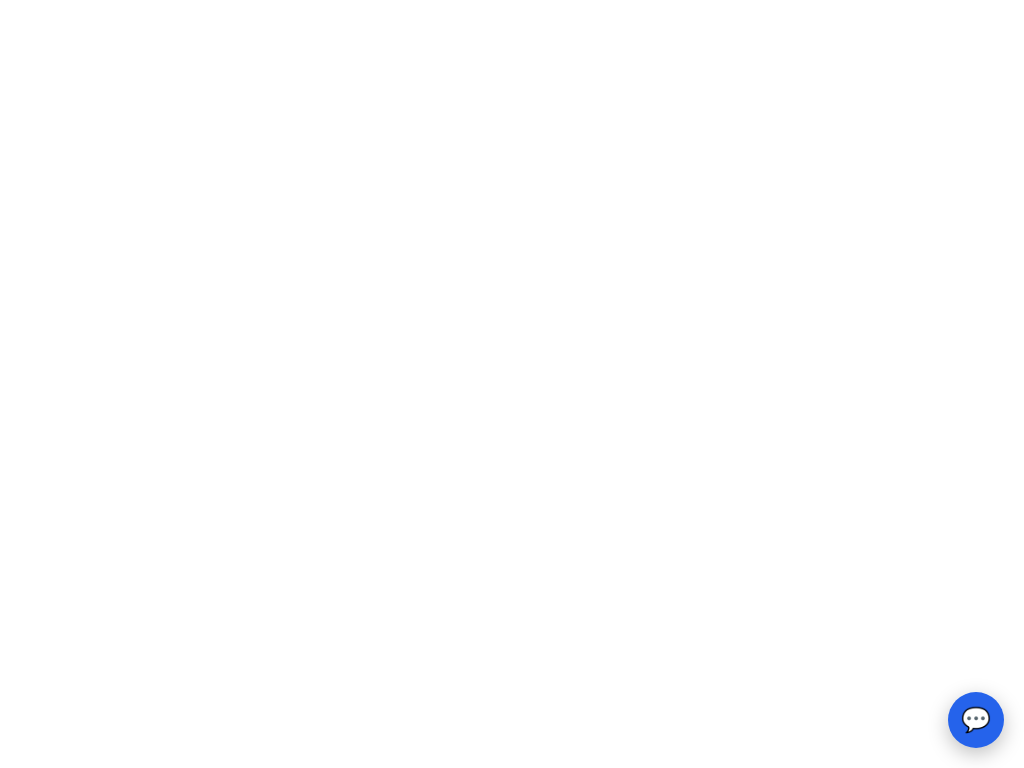
Test case: ChatWidget accessibility › announces connection errors with role=alert
What coordinates should you click on to do the following:
click the button named "open support chat"
I would click on:
 (976, 720)
Its box is [948,692,1004,748].
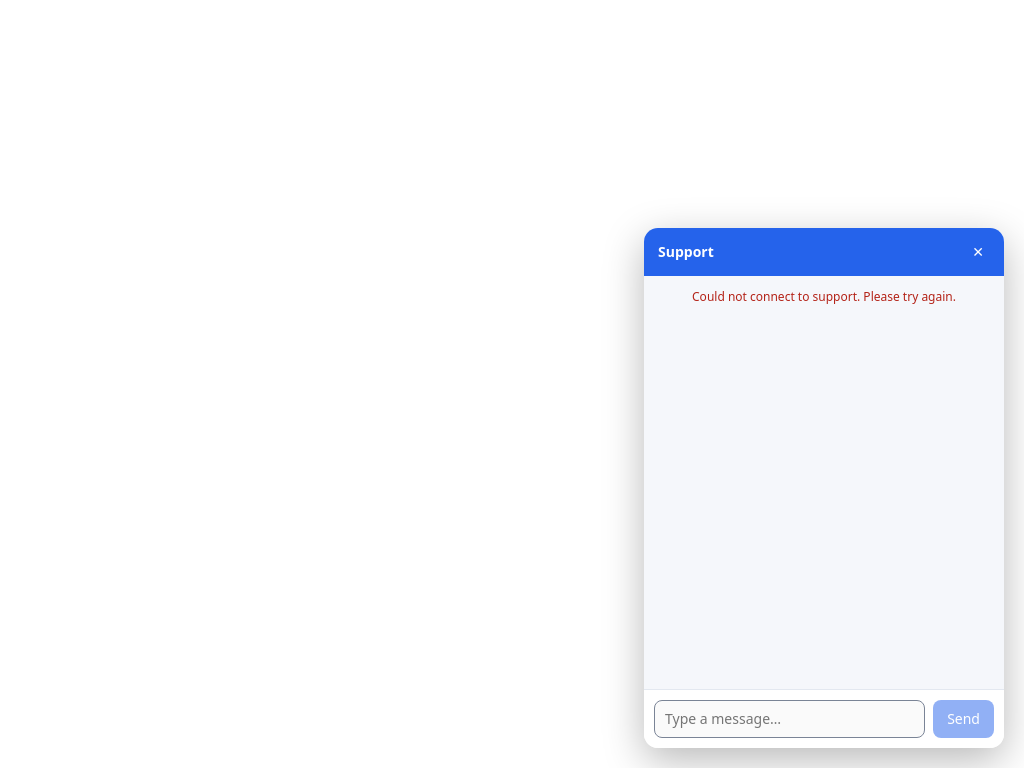
Check: the message shows "Could not connect", box [692,288,956,305]
